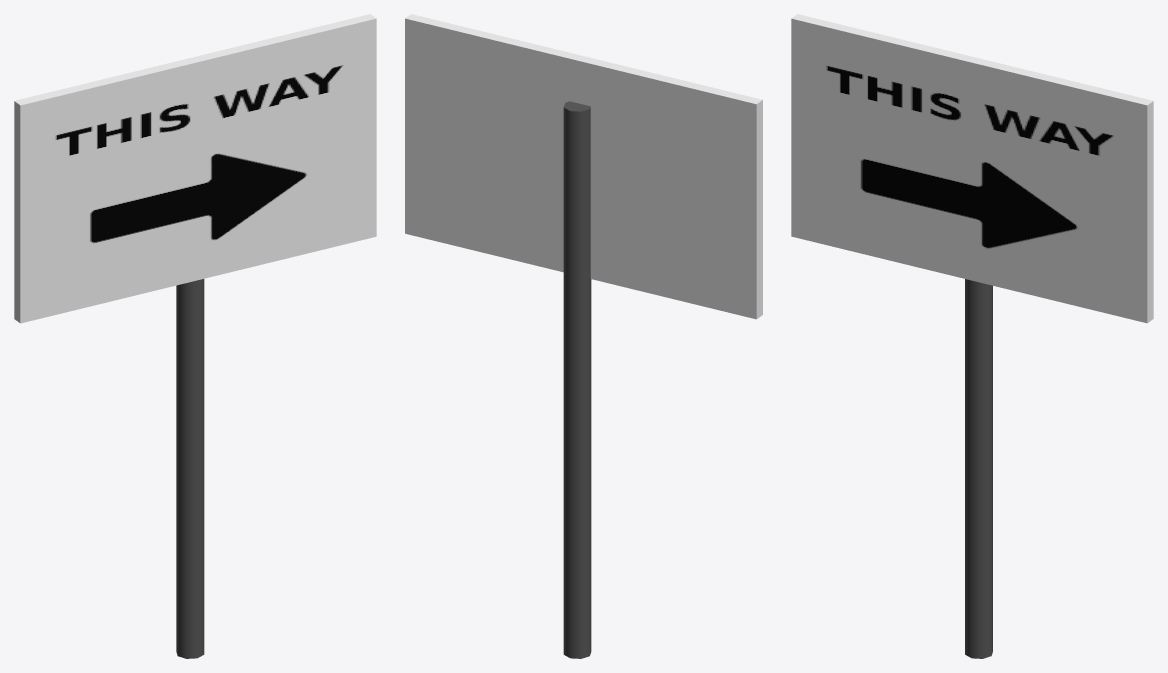
File: THISWAY(R).fbx
The picture shows the model from 3 angles, left to right: view 1: azimuth 30°, elevation 25°; view 2: azimuth 150°, elevation 25°; view 3: azimuth 330°, elevation 25°; orthographic projection.
Parts seen in each view (by area): view 1: pCube72; view 2: pCube72; view 3: pCube72.
Part boxes in pixels (bbox=[...]): pCube72: bbox=[14, 14, 376, 658]; pCube72: bbox=[405, 14, 762, 658]; pCube72: bbox=[791, 14, 1153, 658].
Bounding box in the file's own units: 2.52 × 4.04 × 0.1996.
Materials: 2 (1 with a texture image).
